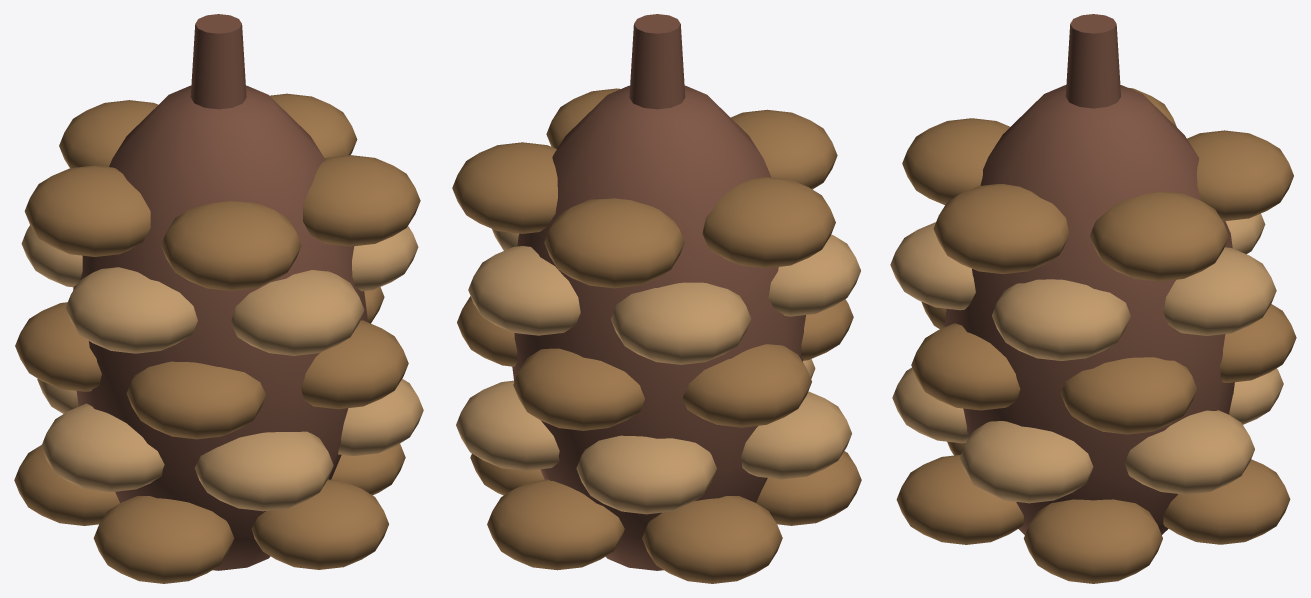
The model's file is treasure-camp.glb.
The picture shows the model from 3 angles, left to right: view 1: azimuth 30°, elevation 25°; view 2: azimuth 150°, elevation 25°; view 3: azimuth 270°, elevation 25°; orthographic projection.
Visible parts, largest first — view 1: collectible-camp; view 2: collectible-camp; view 3: collectible-camp.
Boxes of the visible parts, box(x1,y1,x2,y2) form: collectible-camp: box(14, 14, 423, 583); collectible-camp: box(452, 14, 861, 583); collectible-camp: box(890, 14, 1296, 583).
Size of the model in its own units: 0.3492 by 0.509 by 0.3495.
